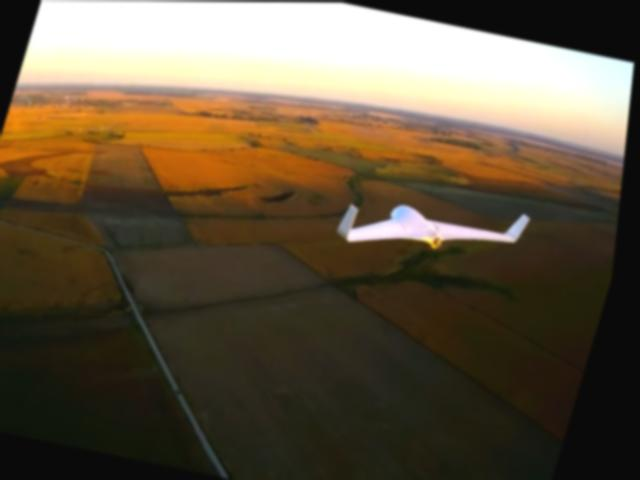plane: (334, 178, 538, 274)
